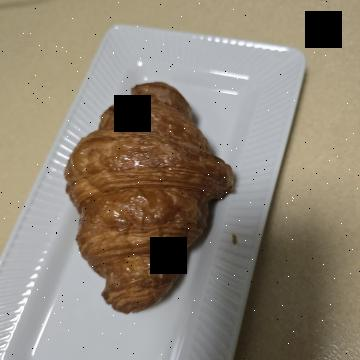croissant: (65, 125, 318, 314)
